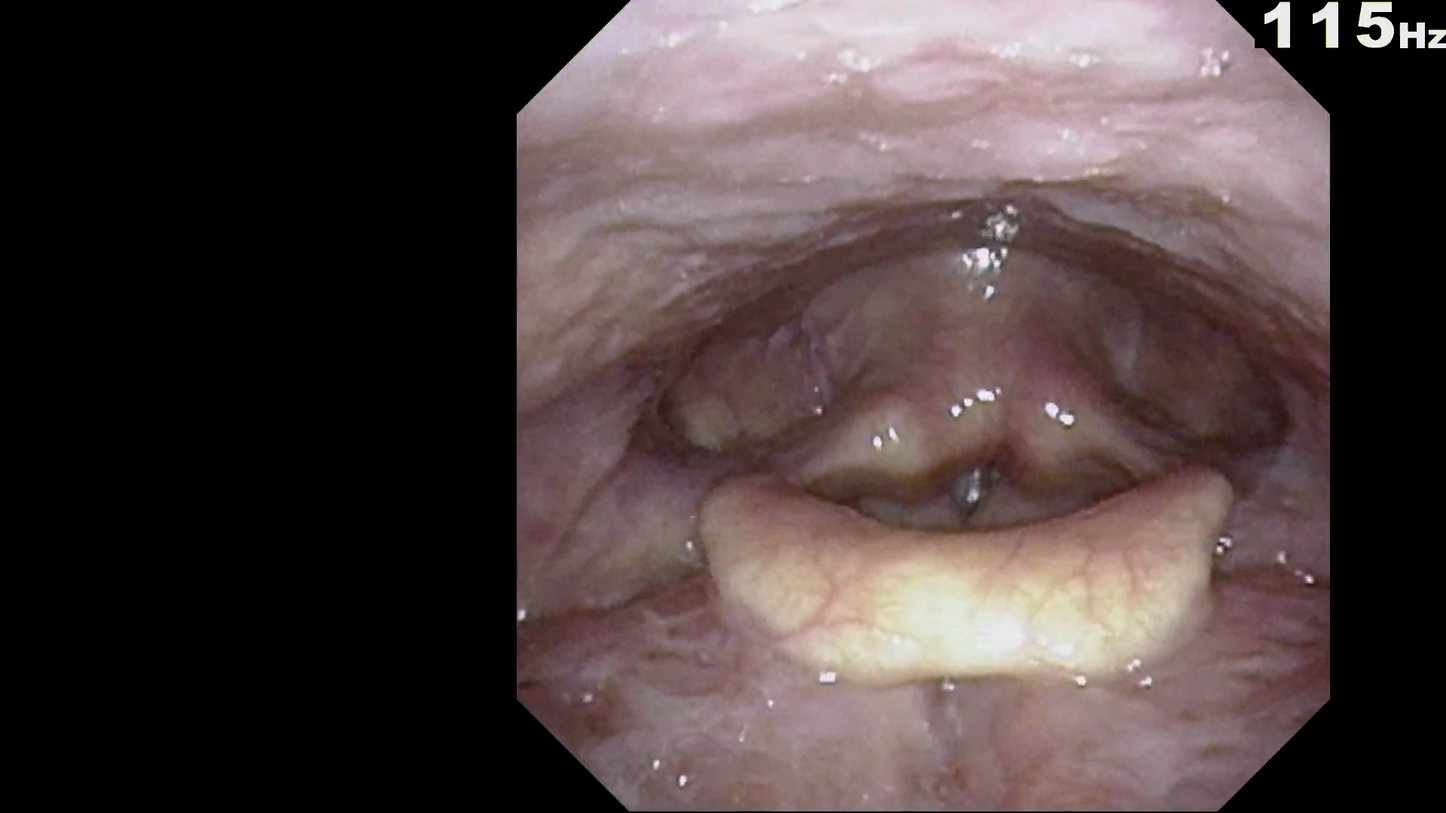epiglottis: (684, 459, 1254, 683)
trachea: (924, 435, 1017, 547)
